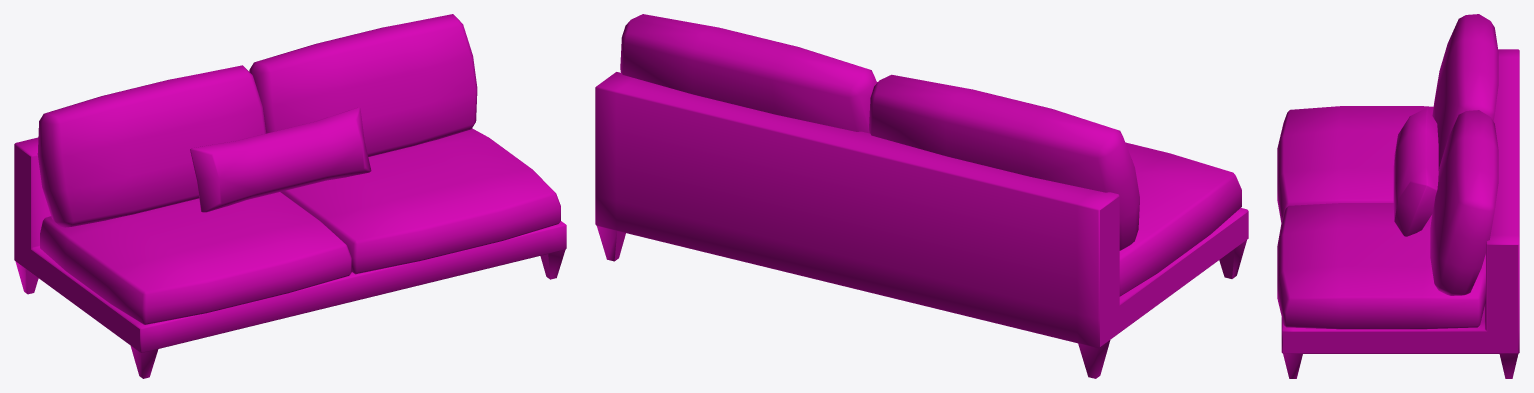
The model's file is SM_CouchPillow.fbx.
3 views of the same model, side by side, from view 1: azimuth 30°, elevation 25°; view 2: azimuth 150°, elevation 25°; view 3: azimuth 270°, elevation 25° (orthographic). The views are drawn at different scales.
Visible parts, largest first — view 1: SM_CouchPillow; view 2: SM_CouchPillow; view 3: SM_CouchPillow.
Boxes of the visible parts, <box> form: SM_CouchPillow: <box>14,14,566,378</box>; SM_CouchPillow: <box>595,14,1248,378</box>; SM_CouchPillow: <box>1277,14,1519,378</box>.
Size of the model in its own units: 351 by 152 by 184.
